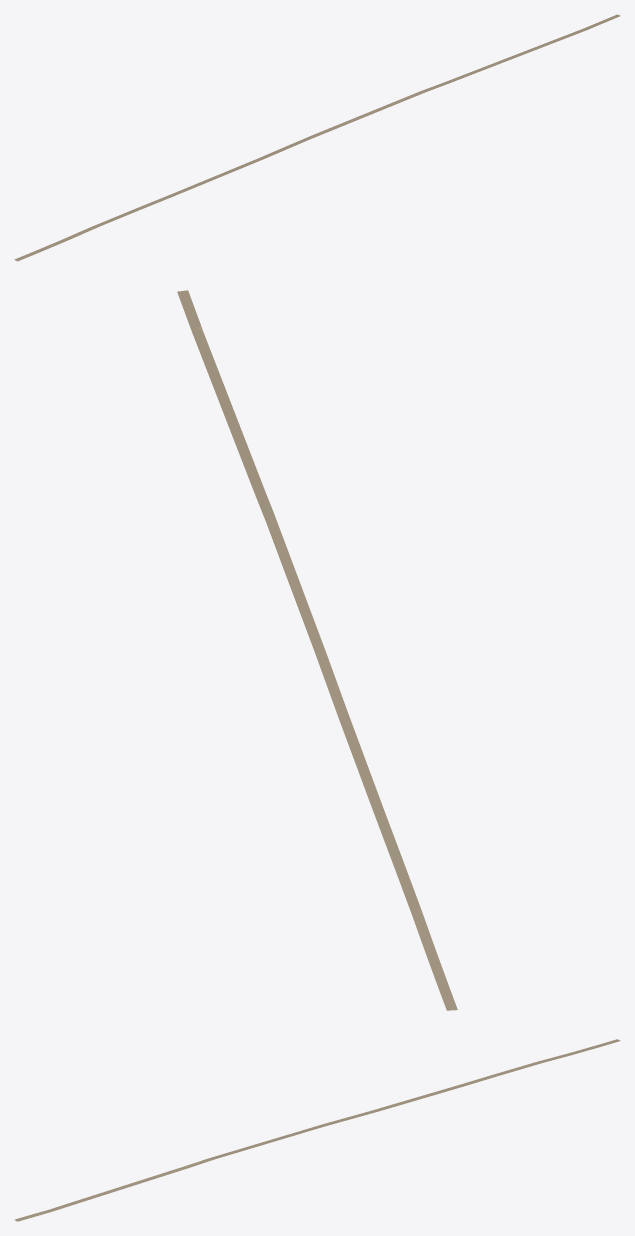
File: farm_14_13_track.glb
3 renders of one model, top to bottom at view 1: azimuth 90°, elevation 25°; view 2: azimuth 150°, elevation 25°; view 3: azimuth 270°, elevation 25°, orthographic. The views are drawn at different scales.
Visible parts, largest first — view 1: geometry_0; view 2: geometry_0; view 3: geometry_0.
Boxes of the visible parts, left/top/right/bottom form: geometry_0: left=14, top=14, right=620, bottom=261; geometry_0: left=177, top=290, right=457, bottom=1010; geometry_0: left=14, top=1039, right=620, bottom=1221.
Size of the model in its own units: 297 by 20.97 by 355.
